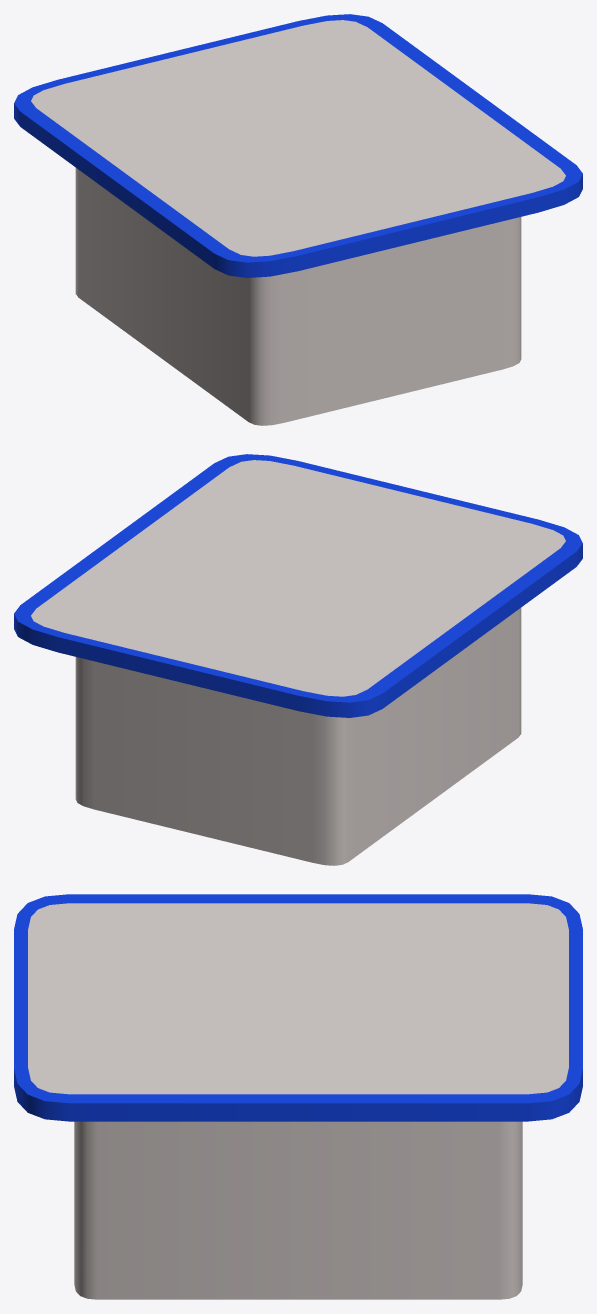
File: ban 1_06.FBX
3 views of the same model, one above another, from view 1: azimuth 30°, elevation 25°; view 2: azimuth 150°, elevation 25°; view 3: azimuth 270°, elevation 25° (orthographic). The views are drawn at different scales.
Parts seen in each view (by area): view 1: Box1244; view 2: Box1244; view 3: Box1244.
Boxes of the visible parts, x1,y1,x2,y2 form: Box1244: (14,14,582,425); Box1244: (14,454,582,865); Box1244: (14,894,582,1299).
Size of the model in its own units: 2.75 by 1.37 by 3.17.
